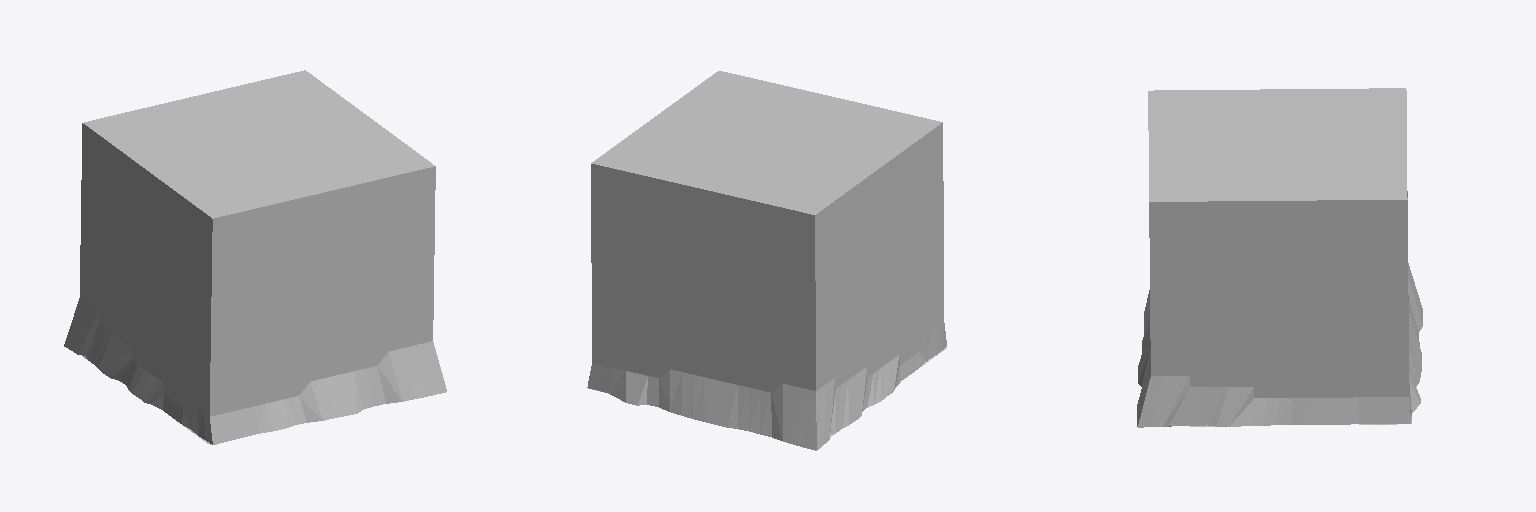
The model's file is mod0110.obj.
The picture shows the model from 3 angles: view 1: azimuth 30°, elevation 25°; view 2: azimuth 150°, elevation 25°; view 3: azimuth 270°, elevation 25°; orthographic projection.
Visible parts, largest first — view 1: Box001; view 2: Box001; view 3: Box001.
Part boxes in pixels (left/top/right/bottom): Box001: left=64, top=70, right=446, bottom=444; Box001: left=587, top=71, right=946, bottom=450; Box001: left=1137, top=88, right=1422, bottom=427.
Bounding box in the file's own units: 0.5799 × 0.5238 × 0.5979.